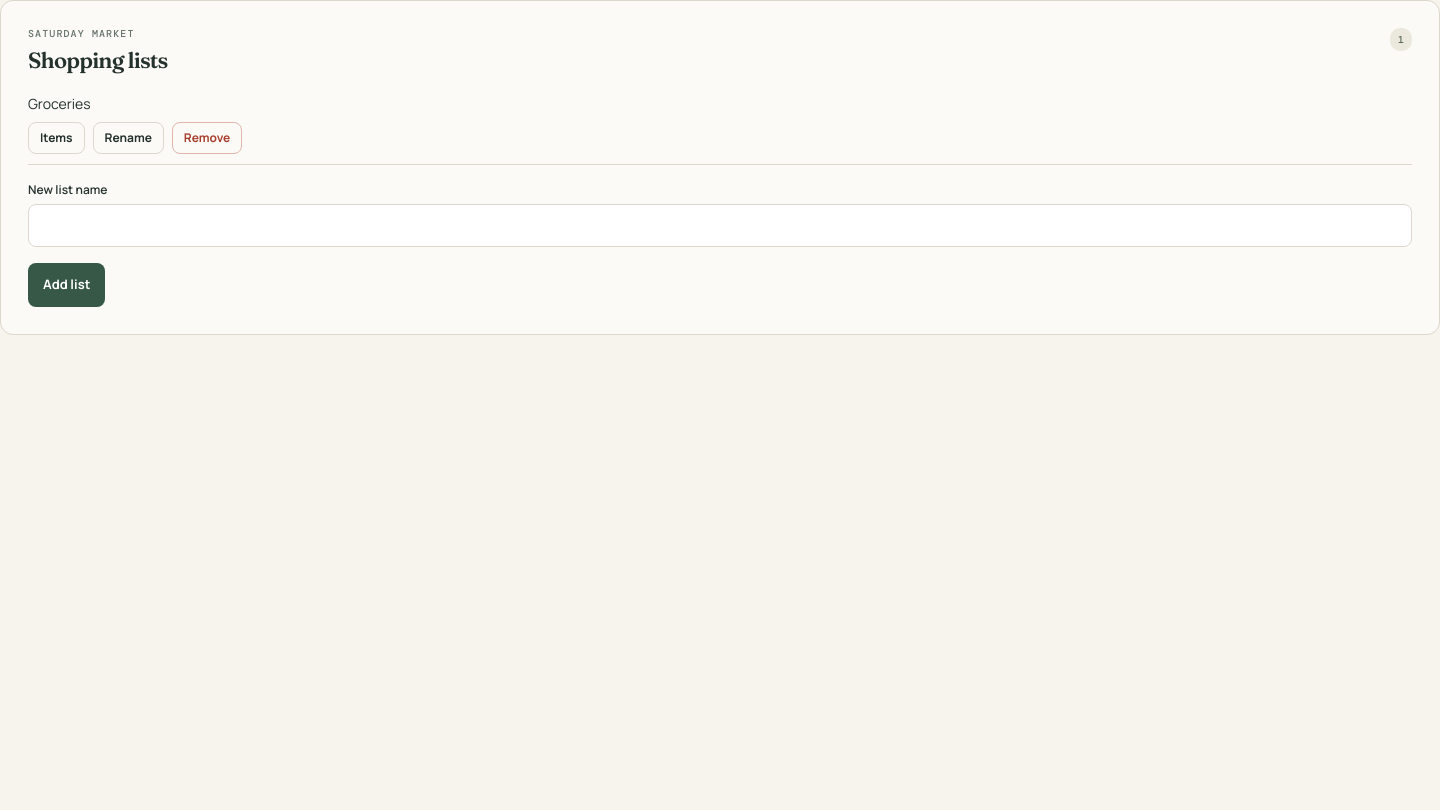
ShoppingListsPanel › deletes an item
What coordinates should you click on to do the following:
click the button "Items"
I would click on:
 (56, 138)
Its box is [28,122,85,154].
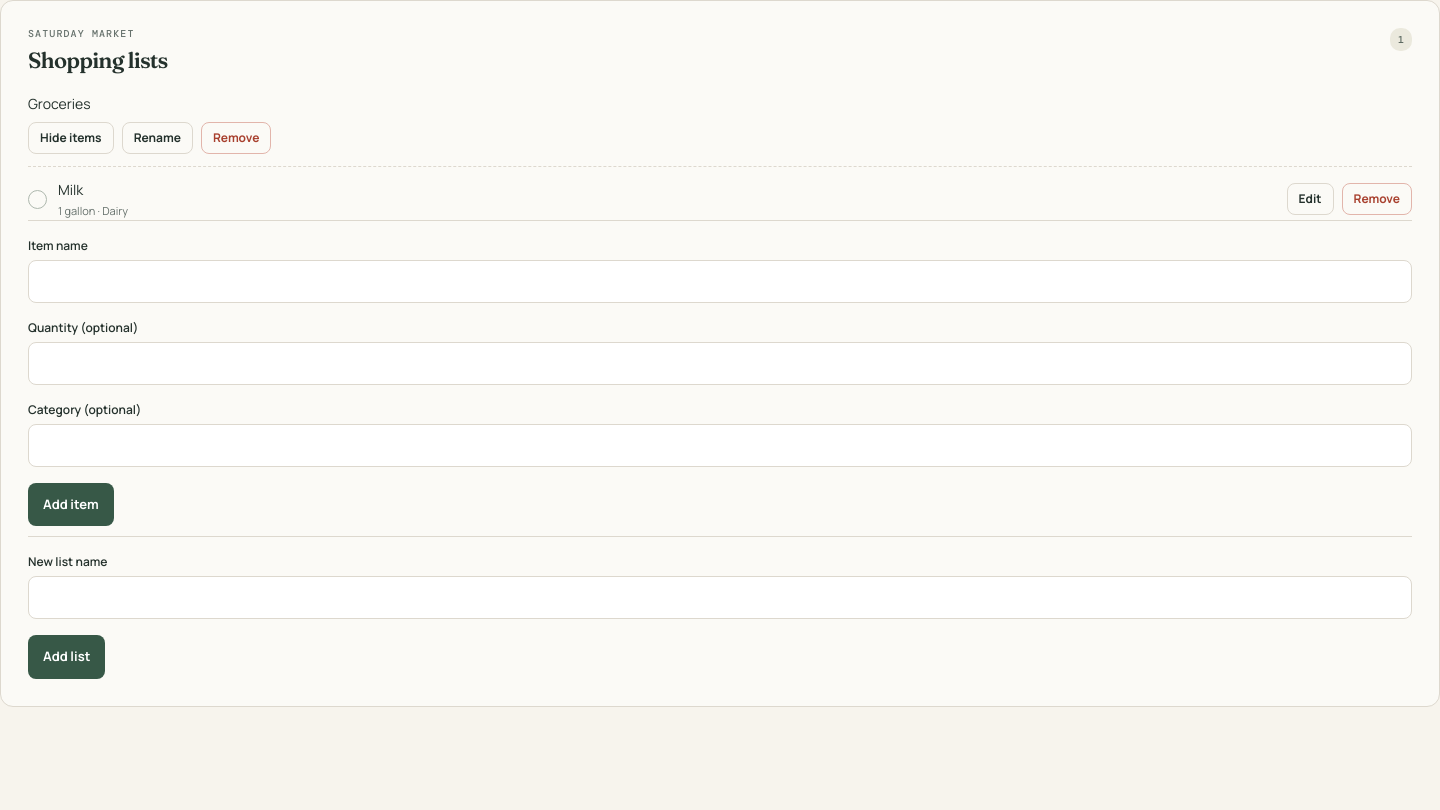
Expected: the text "Milk" is shown, [58,180,83,199]
What coordinates should you click on to do the following:
click the button with aria-label "remove milk"
I would click on:
 (1377, 199)
Its box is [1342,183,1412,215].
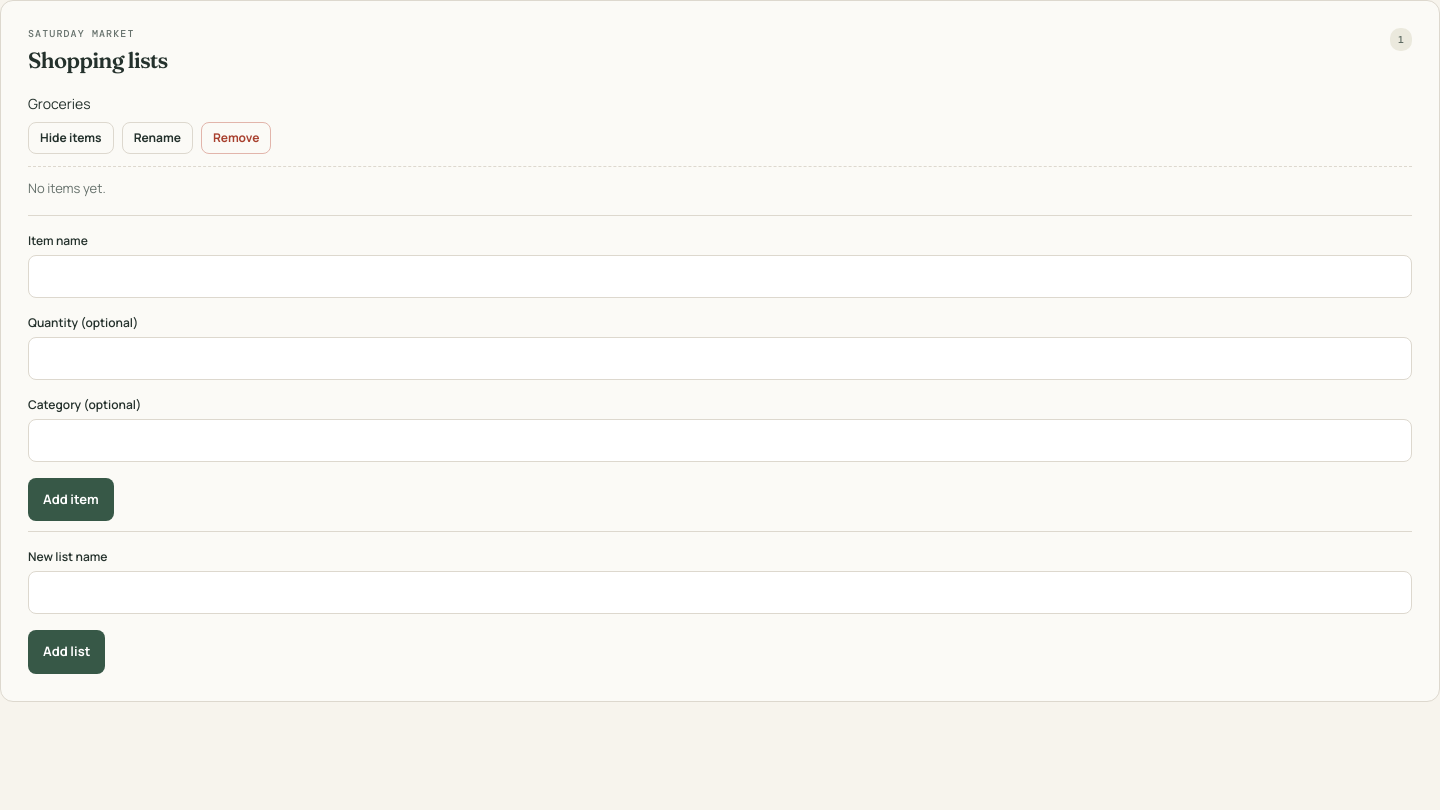
Expected: the text "Milk" is gone
